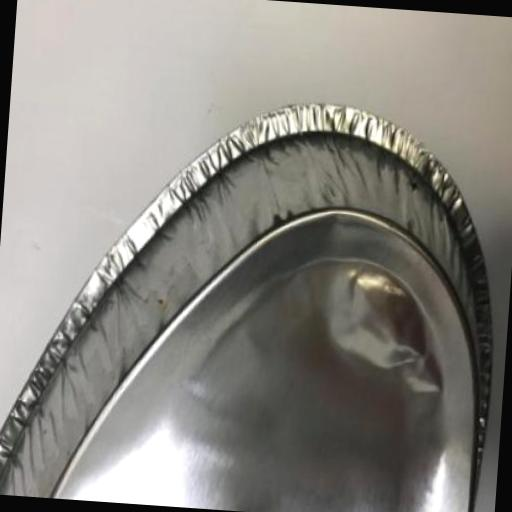metal: (0, 83, 508, 512)
